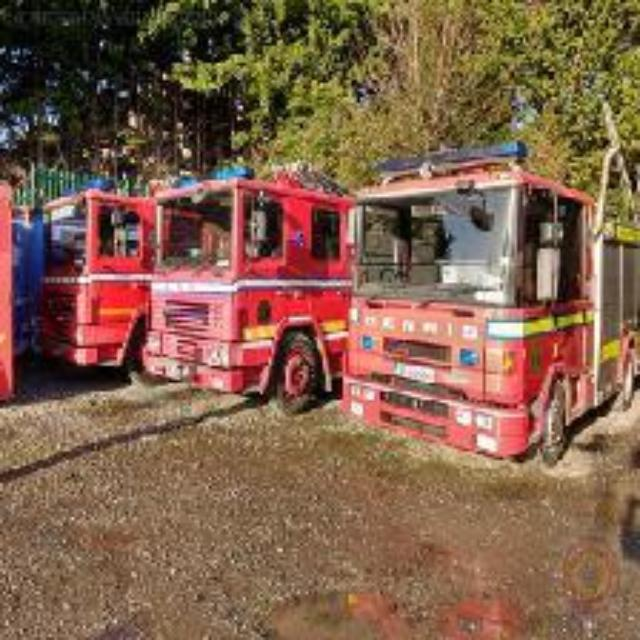emergency: (342, 184, 638, 456), (156, 185, 330, 402), (26, 144, 140, 368)
